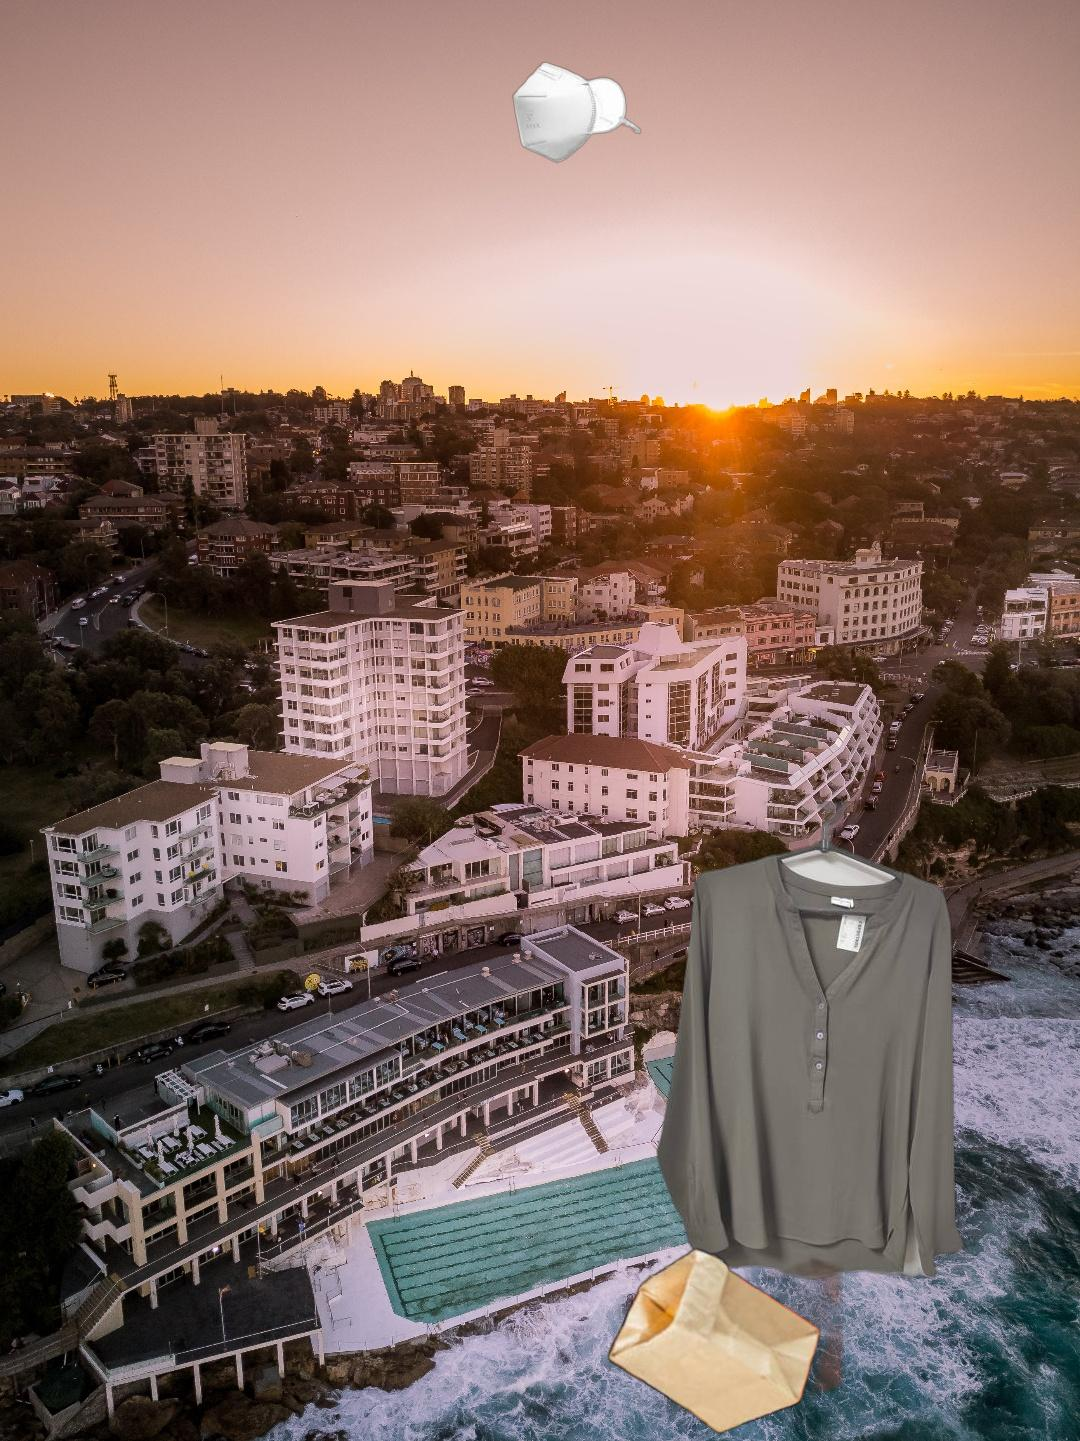clothes: (653, 801, 969, 1284)
paper-bag: (605, 1246, 857, 1440)
trash: (511, 61, 644, 166)
